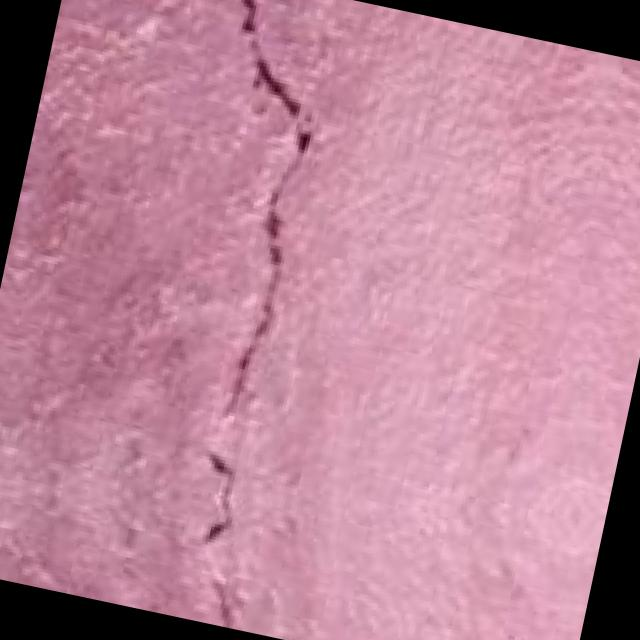crack: (79, 0, 392, 609)
